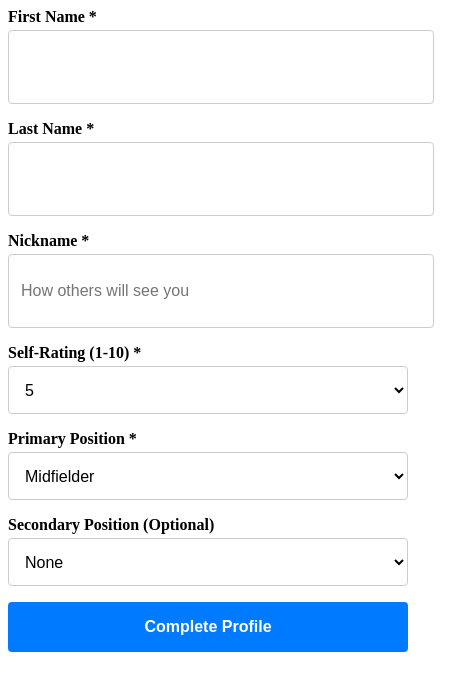
Scenario: ProfileForm › validates nickname format
In the field labelled "Nickname *": (221, 291) [8,254,434,328], type "test nickname!"
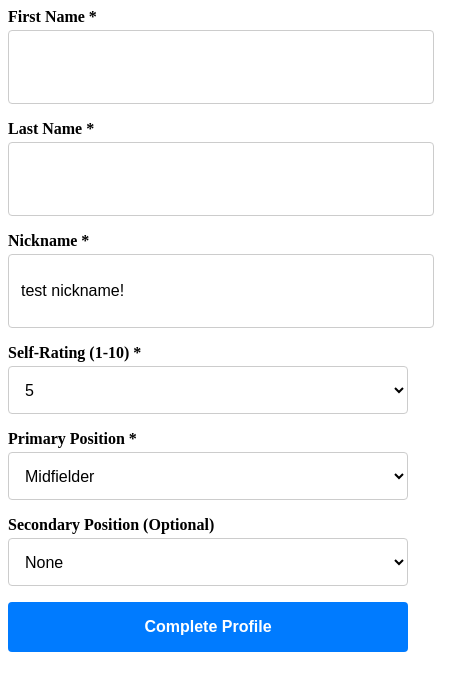
Click the button "Complete Profile": (208, 627) [8,602,408,652]
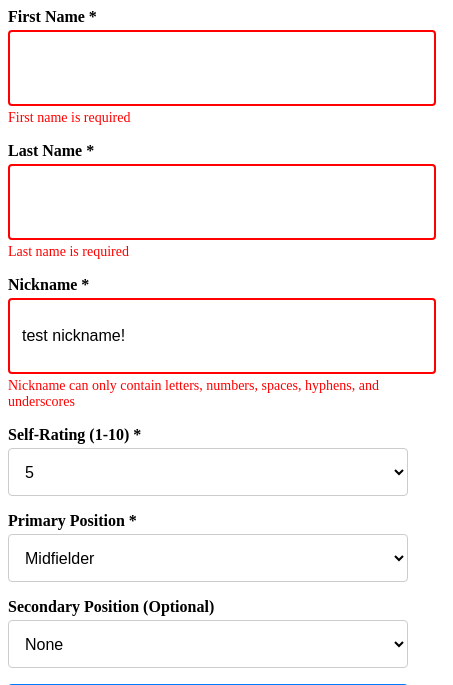
Result: the text "Nickname can only contain letters, numbers, spaces, hyphens, and underscores" is shown at [8,378,408,410]
